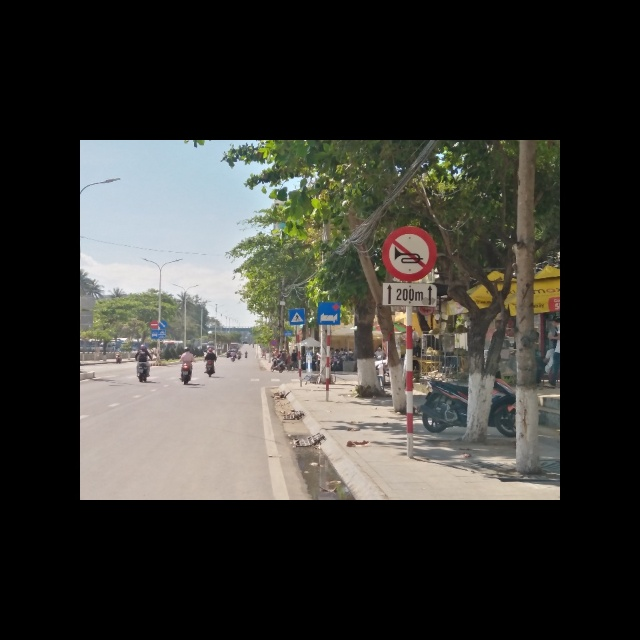Bệnh viện: (316, 302, 340, 326)
Cấm bấm còi: (381, 225, 438, 281)
Đường dành cho người đi bộ: (287, 308, 306, 326)
